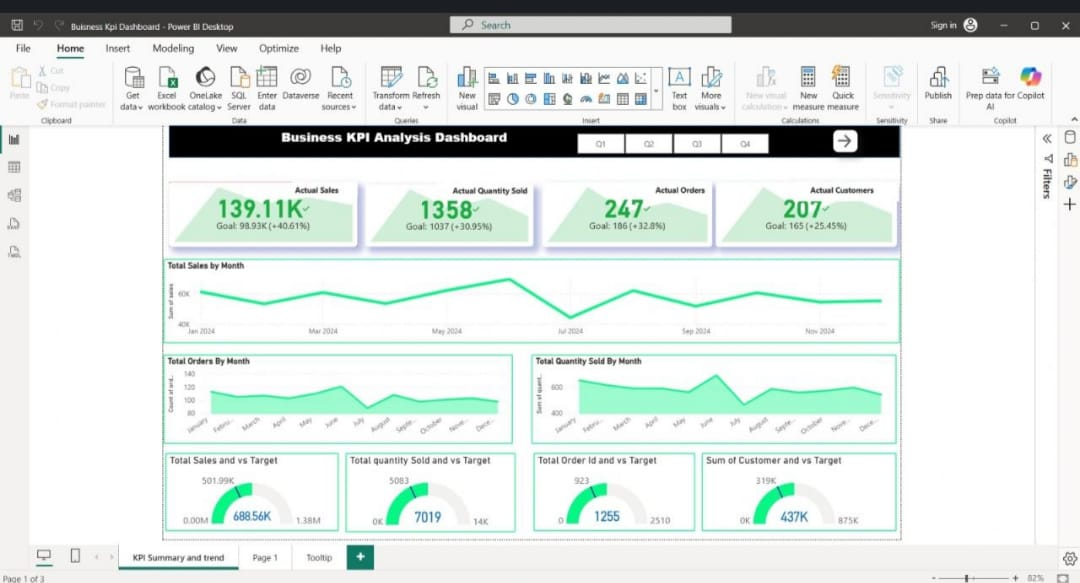

The page's visual inventory and layout, read from the dashboard file:
{"tool":"powerbi","page":{"name":"KPI Summary and trend","canvas":[1280,720],"ordinal":0},"visuals":[{"type":"shape","box":[10,0,1270,56.2],"z":0,"group":"g5"},{"type":"group","id":"g1","title":"Group 1","box":[10.2,97.8,327.6,113.3],"z":0},{"type":"kpi","fields":{"Goal":["Sum(Sales data 2023.Sales)"],"Indicator":["Sum(Sales data 2024.sales)"],"TrendLine":["Sales data 2024.product_category"]},"box":[10.2,98.9,327.6,112.2],"z":0,"group":"g1"},{"type":"kpi","fields":{"Goal":["CountNonNull(Sales data 2023.order_id)"],"Indicator":["CountNonNull(Sales data 2024.order_id)"],"TrendLine":["Sales data 2024.product_category"]},"box":[659.2,98.9,294.7,112.2],"z":0,"group":"g3"},{"type":"kpi","fields":{"Goal":["Count(Sales data 2023.customer_id)"],"Indicator":["Count(Sales data 2024.customer_id)"],"TrendLine":["Sales data 2024.product_category"]},"box":[960.2,98.9,314.3,112.1],"z":0,"group":"g4"},{"type":"kpi","fields":{"Goal":["Sum(Sales data 2023.Quantity_Sold)"],"Indicator":["Sum(Sales data 2024.quantity_sold)"],"TrendLine":["Sales data 2024.product_category"]},"box":[351,102.8,291.8,108.2],"z":0,"group":"g2"},{"type":"textbox","box":[224.3,97.8,113.3,27.5],"z":1000,"group":"g1"},{"type":"textbox","box":[828.5,97.8,125.6,27.5],"z":1000,"group":"g3"},{"type":"textbox","box":[1097.7,98,181.6,34.7],"z":1000,"group":"g4"},{"type":"group","id":"g2","title":"Group 1","box":[351,98.8,291.8,112.2],"z":1000},{"type":"textbox","box":[475.5,98.8,167.3,28.3],"z":1000,"group":"g2"},{"type":"group","id":"g3","title":"Group 1","box":[659.2,97.8,294.9,113.3],"z":2000},{"type":"group","id":"g4","title":"Group 1","box":[960.2,98,319.2,113.1],"z":3000},{"type":"lineChart","title":"Total Sales by Month","fields":{"Category":["Sales data 2024.date.Variation.Date Hierarchy.Year","Sales data 2024.date.Variation.Date Hierarchy.Quarter","Sales data 2024.date.Variation.Date Hierarchy.Month","Sales data 2024.date.Variation.Date Hierarchy.Day"],"Y":["Sum(Sales data 2024.sales)"]},"box":[0,232.5,1280,146.2],"z":4000},{"type":"areaChart","title":"Total Orders By Month","fields":{"Category":["Sales data 2024.date.Variation.Date Hierarchy.Year","Sales data 2024.date.Variation.Date Hierarchy.Quarter","Sales data 2024.date.Variation.Date Hierarchy.Month","Sales data 2024.date.Variation.Date Hierarchy.Day"],"Y":["CountNonNull(Sales data 2024.order_id)"]},"box":[0.1,398.9,607.1,155.1],"z":5000},{"type":"areaChart","title":"Total Quantity Sold By Month","fields":{"Category":["Sales data 2024.date.Variation.Date Hierarchy.Year","Sales data 2024.date.Variation.Date Hierarchy.Quarter","Sales data 2024.date.Variation.Date Hierarchy.Month","Sales data 2024.date.Variation.Date Hierarchy.Day"],"Y":["Sum(Sales data 2024.quantity_sold)"]},"box":[639.9,398.9,634.7,155.1],"z":6000},{"type":"gauge","fields":{"TargetValue":["Sum(Sales data 2023.Sales)"],"Y":["Sum(Sales data 2024.sales)"]},"box":[4,569.3,301,135.7],"z":7000},{"type":"gauge","fields":{"TargetValue":["Sum(Sales data 2023.Quantity_Sold)"],"Y":["Sum(Sales data 2024.quantity_sold)"]},"box":[316.2,569.3,294.9,137.8],"z":8000},{"type":"gauge","fields":{"TargetValue":["CountNonNull(Sales data 2023.order_id)"],"Y":["CountNonNull(Sales data 2024.order_id)"]},"box":[643.8,569.3,280.6,135.7],"z":9000},{"type":"gauge","fields":{"TargetValue":["Sum(Sales data 2023.customer_id)"],"Y":["Sum(Sales data 2024.customer_id)"]},"box":[935,570,338.8,136.2],"z":10000},{"type":"group","id":"g5","title":"Group 2","box":[10,0,1270,56.2],"z":11000},{"type":"textbox","box":[86.6,0,1159.7,56.2],"z":12000,"group":"g5"},{"type":"slicer","fields":{"Values":["Sales data 2024.Quarter"]},"box":[693.8,7.5,382.5,48.8],"z":12000},{"type":"actionButton","box":[1162.5,7.5,43.8,40],"z":12001}]}

Visuals, with their boxes on the page's 1280x720 design canvas (x1, y1, x2, y2). These are canvas units, not pixel positions in the 1080x583 screenshot, which may show the page scaled, cropped or inside an application window:
shape: left=10, top=0, right=1280, bottom=56
"Group 1" group: left=10, top=98, right=338, bottom=211
kpi - Sum(Sales data 2023.Sales) x Sum(Sales data 2024.sales): left=10, top=99, right=338, bottom=211
kpi - CountNonNull(Sales data 2023.order_id) x CountNonNull(Sales data 2024.order_id): left=659, top=99, right=954, bottom=211
kpi - Count(Sales data 2023.customer_id) x Count(Sales data 2024.customer_id): left=960, top=99, right=1274, bottom=211
kpi - Sum(Sales data 2023.Quantity_Sold) x Sum(Sales data 2024.quantity_sold): left=351, top=103, right=643, bottom=211
textbox: left=224, top=98, right=338, bottom=125
textbox: left=828, top=98, right=954, bottom=125
textbox: left=1098, top=98, right=1279, bottom=133
"Group 1" group: left=351, top=99, right=643, bottom=211
textbox: left=476, top=99, right=643, bottom=127
"Group 1" group: left=659, top=98, right=954, bottom=211
"Group 1" group: left=960, top=98, right=1279, bottom=211
"Total Sales by Month" lineChart: left=0, top=232, right=1280, bottom=379
"Total Orders By Month" areaChart: left=0, top=399, right=607, bottom=554
"Total Quantity Sold By Month" areaChart: left=640, top=399, right=1275, bottom=554
gauge - Sum(Sales data 2023.Sales) x Sum(Sales data 2024.sales): left=4, top=569, right=305, bottom=705
gauge - Sum(Sales data 2023.Quantity_Sold) x Sum(Sales data 2024.quantity_sold): left=316, top=569, right=611, bottom=707
gauge - CountNonNull(Sales data 2023.order_id) x CountNonNull(Sales data 2024.order_id): left=644, top=569, right=924, bottom=705
gauge - Sum(Sales data 2023.customer_id) x Sum(Sales data 2024.customer_id): left=935, top=570, right=1274, bottom=706
"Group 2" group: left=10, top=0, right=1280, bottom=56
textbox: left=87, top=0, right=1246, bottom=56
slicer - Sales data 2024.Quarter: left=694, top=8, right=1076, bottom=56
actionButton: left=1162, top=8, right=1206, bottom=48
